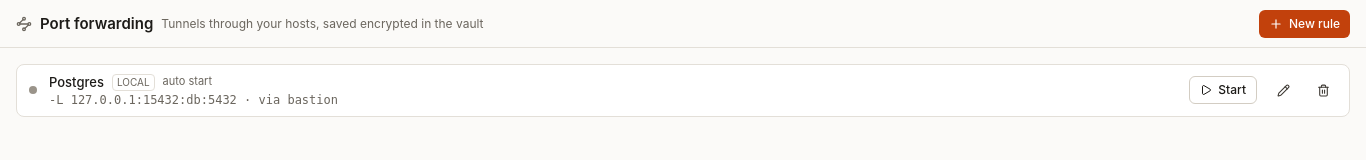
Test: ForwardsView › shows why a rule failed
Click the button with aria-label "Start Postgres" at point(1223, 90), box [1189,76,1257,104]
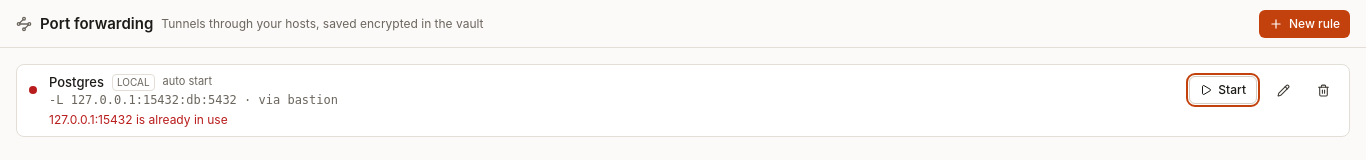
expect the message reads "127.0.0.1:15432 is already in use": met, box [49,112,228,127]
